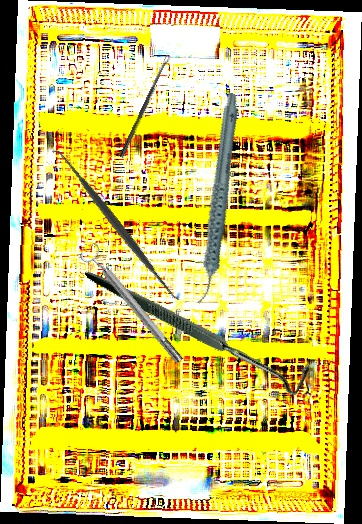Fixation Ring: (77, 240, 189, 370)
Handpiece: (152, 91, 280, 306)
Hook Surgical: (84, 198, 317, 455)
Spatula Surgical: (47, 141, 184, 307)
Surgical Spoon: (119, 54, 171, 159)
